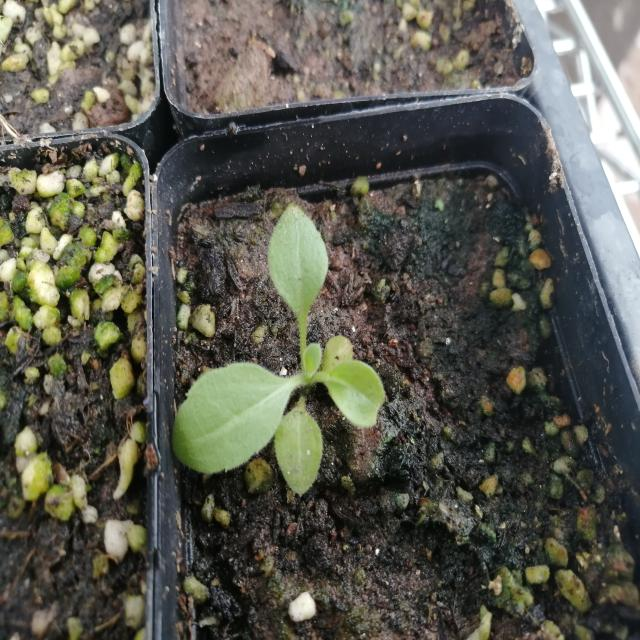horseweed: (182, 224, 370, 487)
